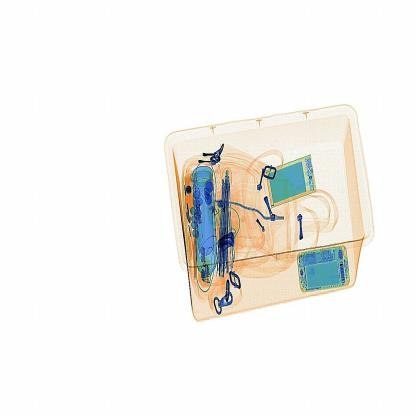knife: (220, 232, 243, 252)
